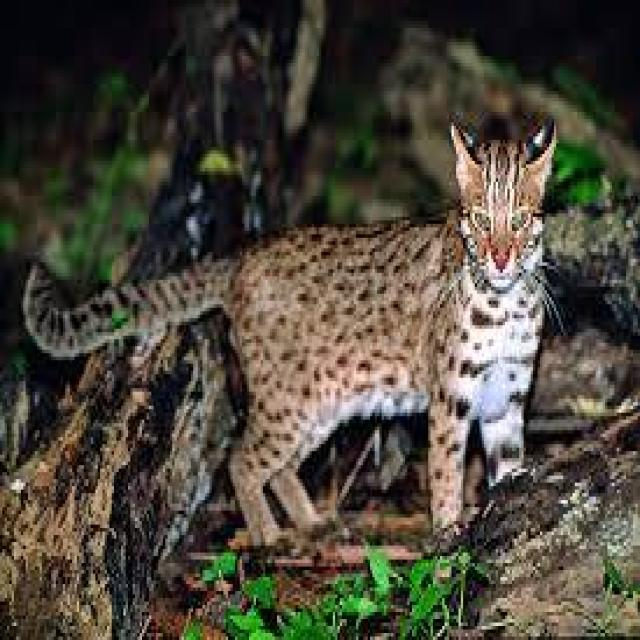leopard: (46, 216, 558, 462)
